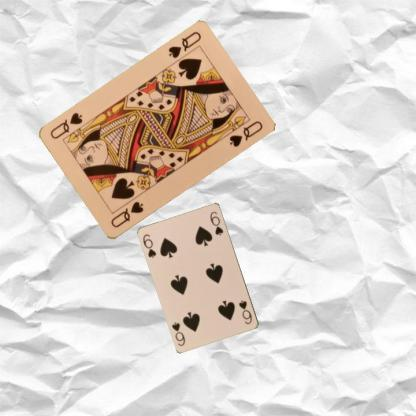6s: (140, 232, 158, 259), (236, 298, 253, 325)
Qs: (165, 29, 202, 60), (108, 199, 145, 229)
